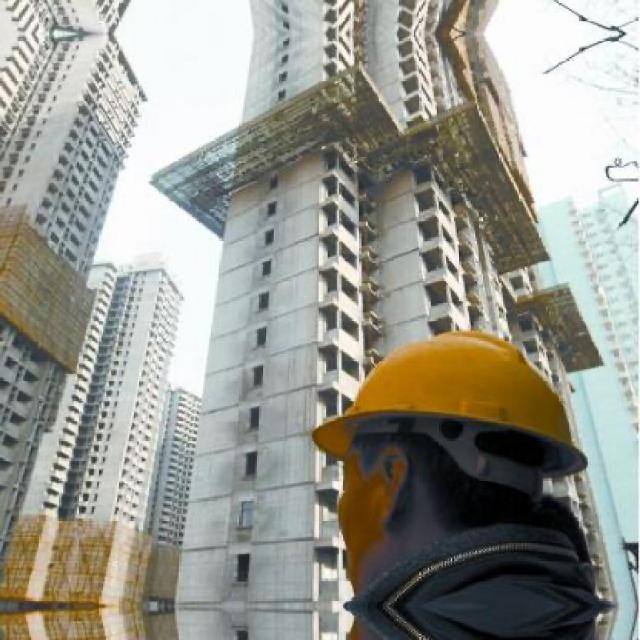helmet: (289, 294, 608, 584)
